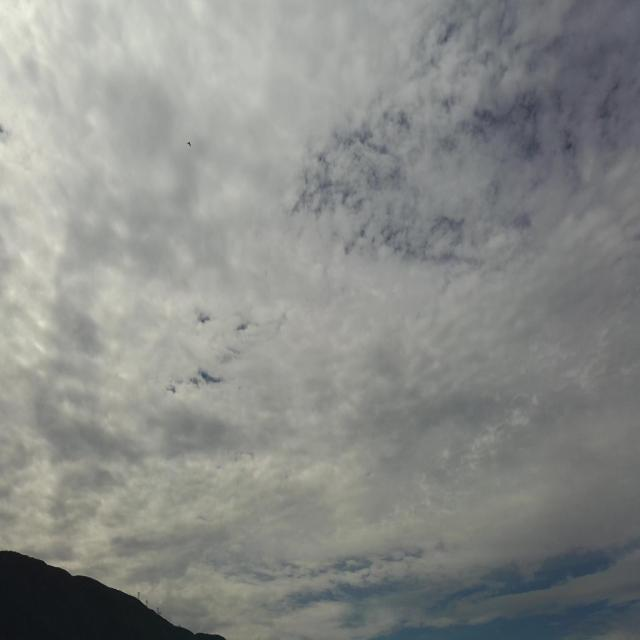Birds: (184, 137, 194, 149)
